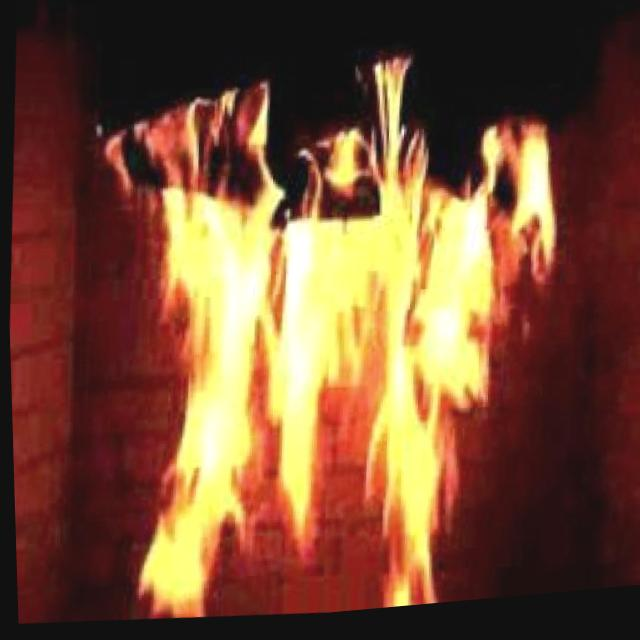helmet: (58, 22, 579, 636)
